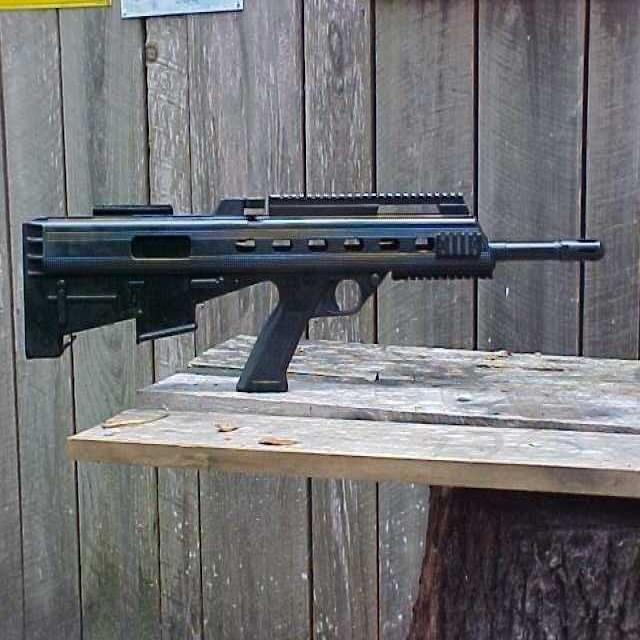weapon: (9, 176, 608, 424)
